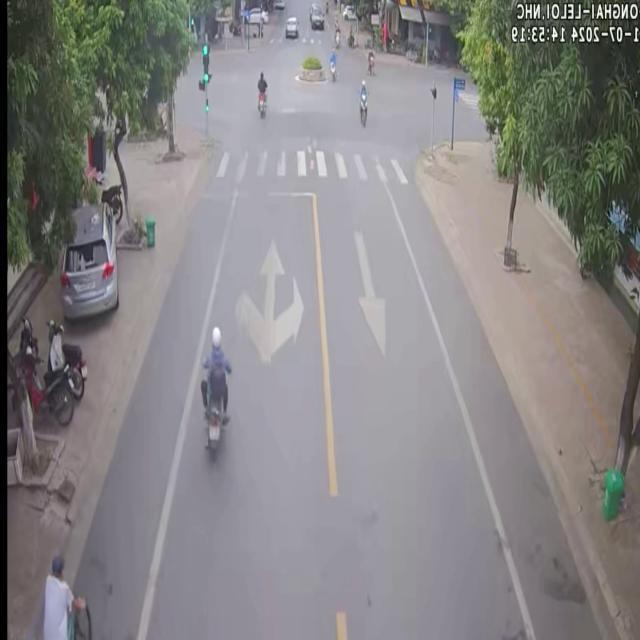car: (58, 194, 117, 318)
green_light: (201, 40, 209, 85)
motobike: (14, 316, 73, 422), (200, 325, 229, 455), (46, 318, 86, 398), (357, 78, 367, 125), (257, 89, 264, 116)
stop_line: (200, 189, 313, 196)
